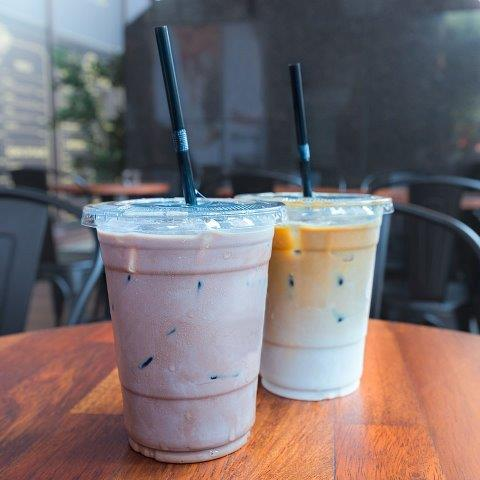sedotan: (155, 27, 197, 206), (291, 62, 313, 200)
